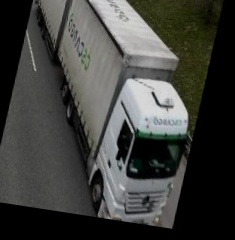truck: (0, 0, 220, 231)
